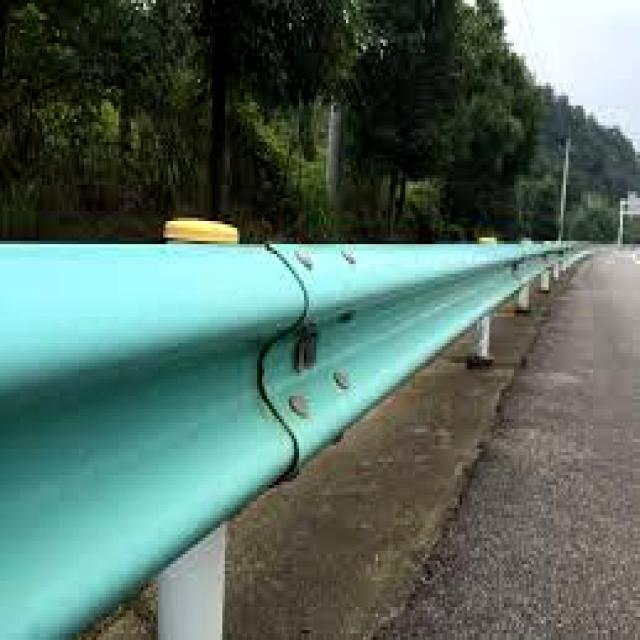Guard rail: (0, 242, 589, 637)
